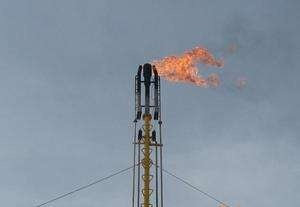fire: (150, 44, 225, 88)
